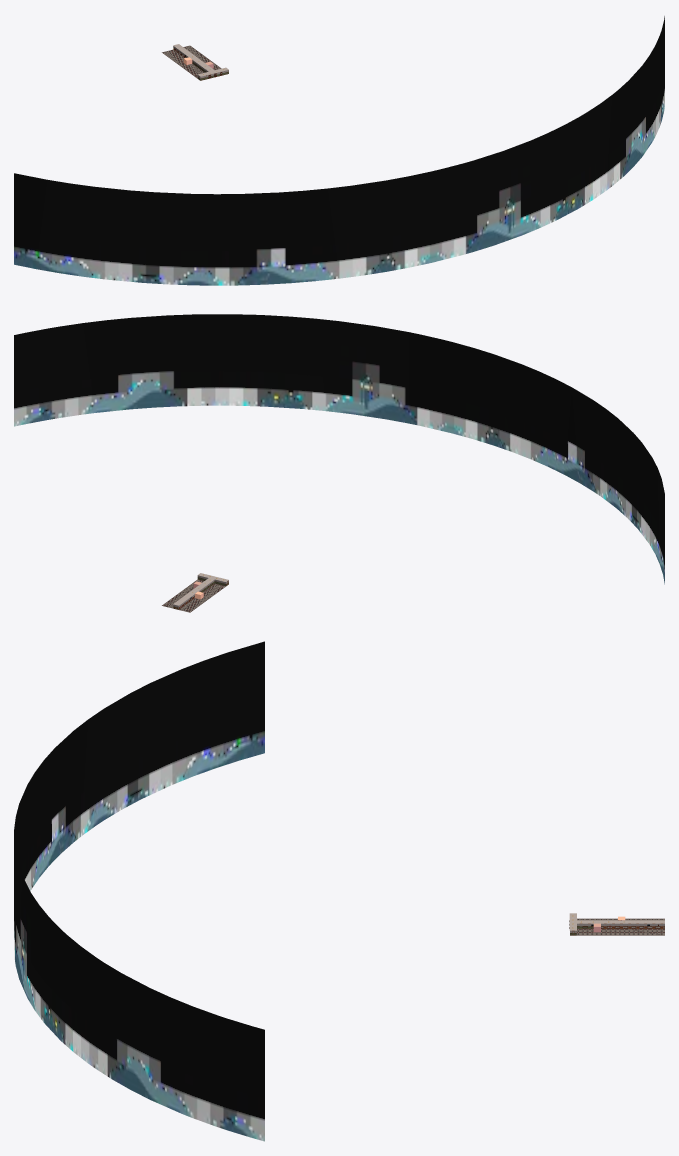
Rendered from goodboat-corridor-1-day.lod1.glb.
The picture shows the model from 3 angles, top to bottom: view 1: azimuth 30°, elevation 25°; view 2: azimuth 150°, elevation 25°; view 3: azimuth 270°, elevation 25°; orthographic projection. The views are drawn at different scales.
Visible parts, largest first — view 1: object 104, object 9; view 2: object 104, object 9; view 3: object 104, object 9.
Part boxes in pixels (bbox=[...]): object 104: bbox=[14, 16, 664, 285]; object 9: bbox=[162, 45, 221, 78]; object 104: bbox=[14, 314, 664, 584]; object 9: bbox=[162, 579, 225, 612]; object 104: bbox=[14, 641, 264, 1141]; object 9: bbox=[576, 918, 664, 935].
Size of the model in its own units: 387 by 51.98 by 274.
Materials: 128 (54 with a texture image).
